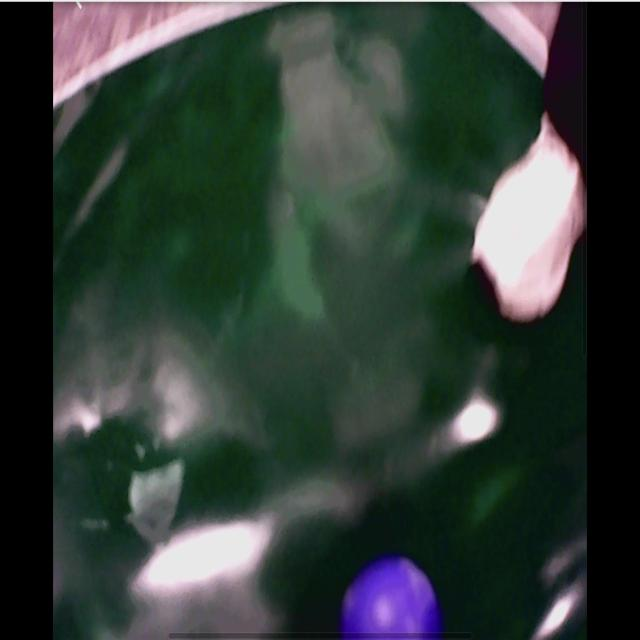ball: (343, 556, 441, 640)
